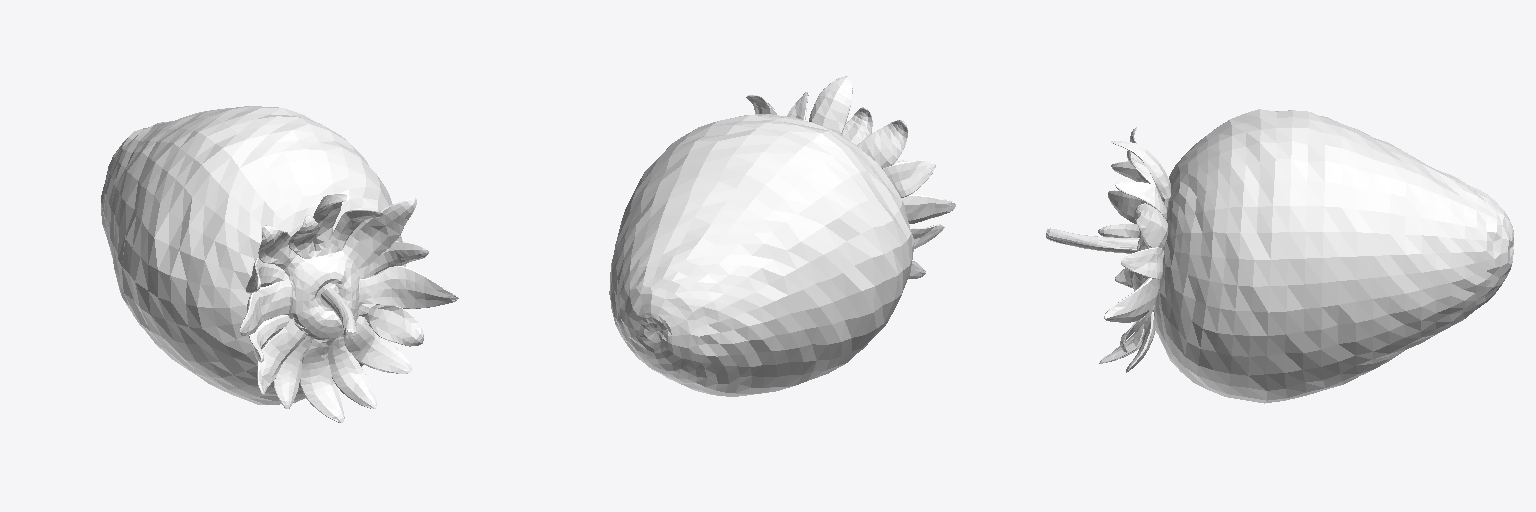
The model's file is Strawberry.obj.
3 views of the same model, side by side, from view 1: azimuth 30°, elevation 25°; view 2: azimuth 150°, elevation 25°; view 3: azimuth 270°, elevation 25° (orthographic).
Visible parts, largest first — view 1: Object.1; view 2: Object.1; view 3: Object.1.
Part boxes in pixels (x1,y1,x2,y2): Object.1: (101,106,458,422); Object.1: (609,76,955,396); Object.1: (1046,109,1513,403).
Size of the model in its own units: 69.33 by 68.91 by 112.